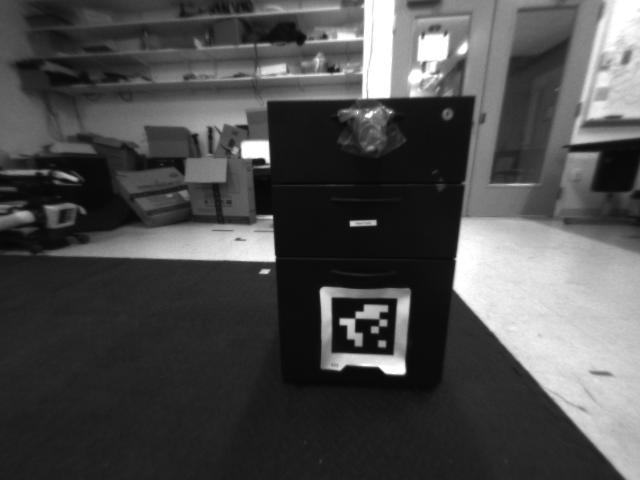drawer: (317, 91, 415, 166)
